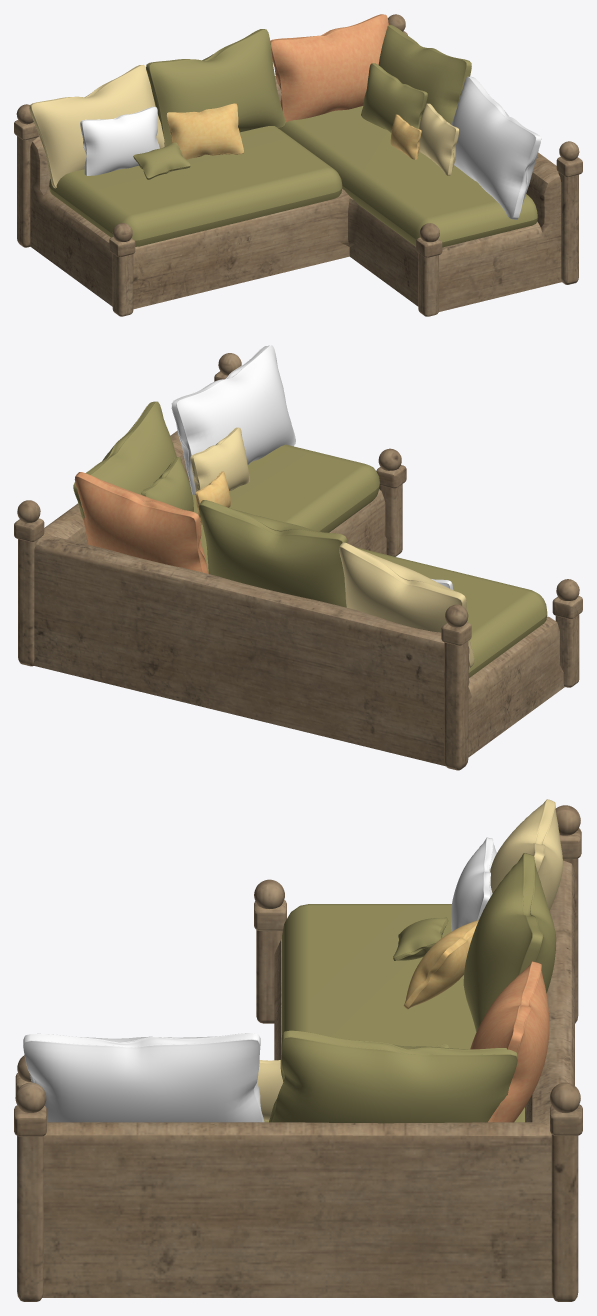
The model's file is couch.gltf.
3 renders of one model, top to bottom at view 1: azimuth 30°, elevation 25°; view 2: azimuth 150°, elevation 25°; view 3: azimuth 270°, elevation 25°, orthographic. The views are drawn at different scales.
Parts seen in each view (by area): view 1: couchDUPE; view 2: couchDUPE; view 3: couchDUPE.
Boxes of the visible parts, box(x1,y1,x2,y2) form: couchDUPE: box(14, 14, 582, 316); couchDUPE: box(14, 345, 582, 770); couchDUPE: box(14, 799, 582, 1301).
Size of the model in its own units: 6.69 by 2.77 by 5.51.
Materials: 6 (6 with a texture image).
